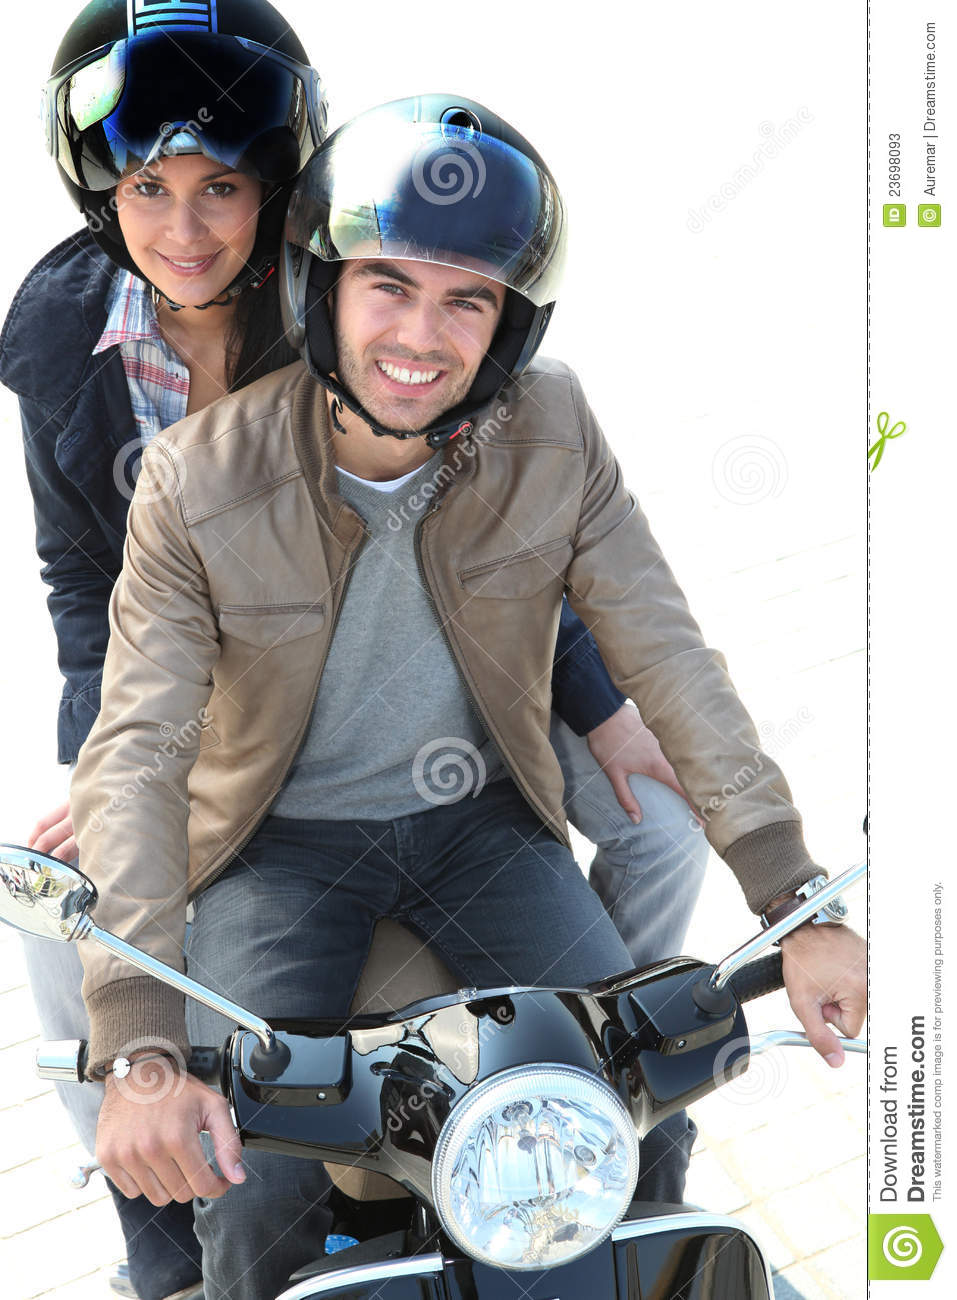helmet: (294, 105, 580, 321), (44, 7, 330, 183)
